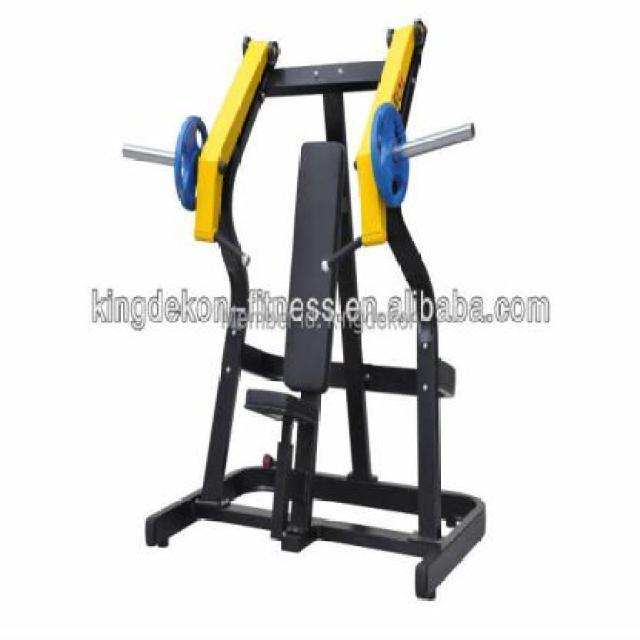Chest Press machine: (117, 12, 495, 612)
